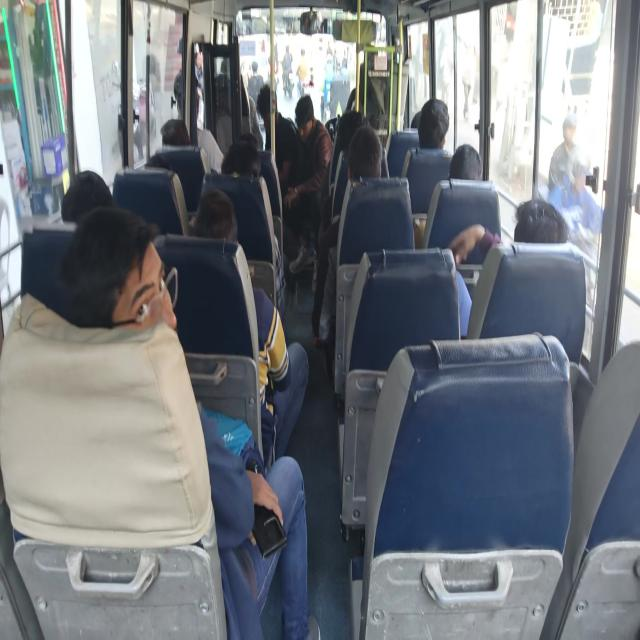person: (112, 263, 182, 343), (65, 170, 114, 242), (519, 202, 567, 260), (202, 196, 237, 252), (348, 140, 383, 186), (174, 62, 203, 117), (420, 106, 450, 152), (224, 153, 261, 188), (142, 152, 178, 186), (451, 148, 483, 186), (236, 125, 264, 166), (294, 98, 316, 146), (253, 80, 274, 124), (156, 120, 186, 150), (334, 115, 361, 147), (221, 48, 244, 84), (362, 48, 381, 74)
